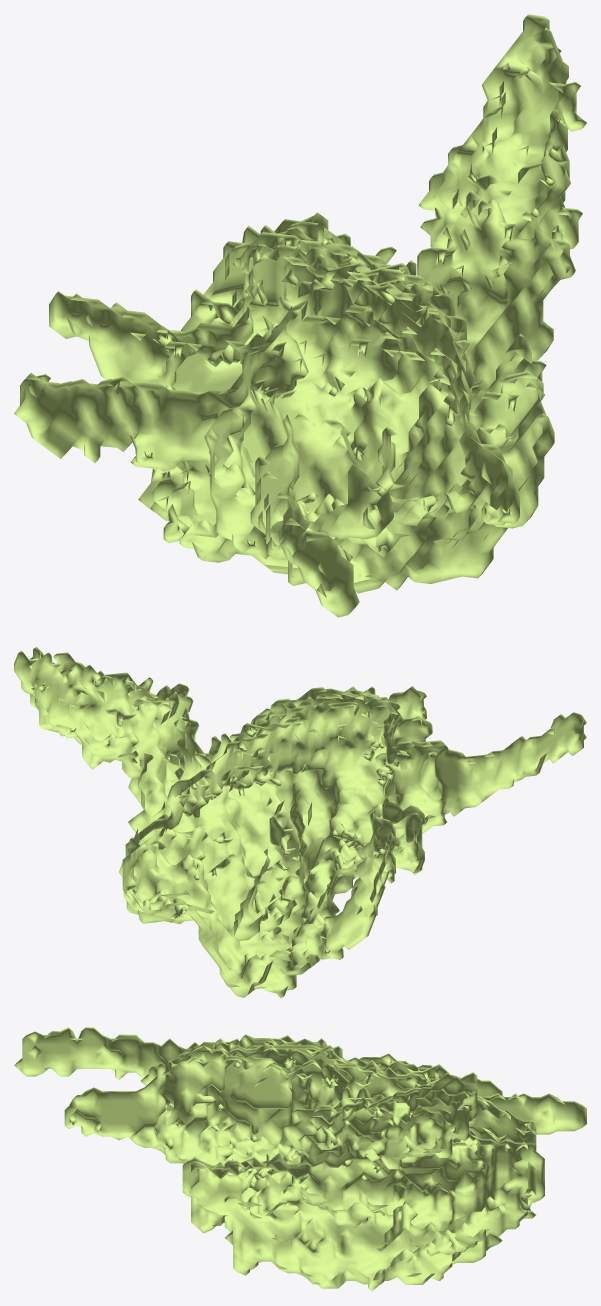
File: osteocyte_34.glb
3 renders of one model, top to bottom at view 1: azimuth 30°, elevation 25°; view 2: azimuth 150°, elevation 25°; view 3: azimuth 270°, elevation 25°, orthographic. The views are drawn at different scales.
Visible parts, largest first — view 1: osteocyte_34; view 2: osteocyte_34; view 3: osteocyte_34.
Boxes of the visible parts, box(x1,y1,x2,y2) form: osteocyte_34: box(14, 14, 586, 617); osteocyte_34: box(14, 646, 586, 998); osteocyte_34: box(14, 1027, 586, 1291).
Bounding box in the file's own units: 25.04 × 19.26 × 32.74.
